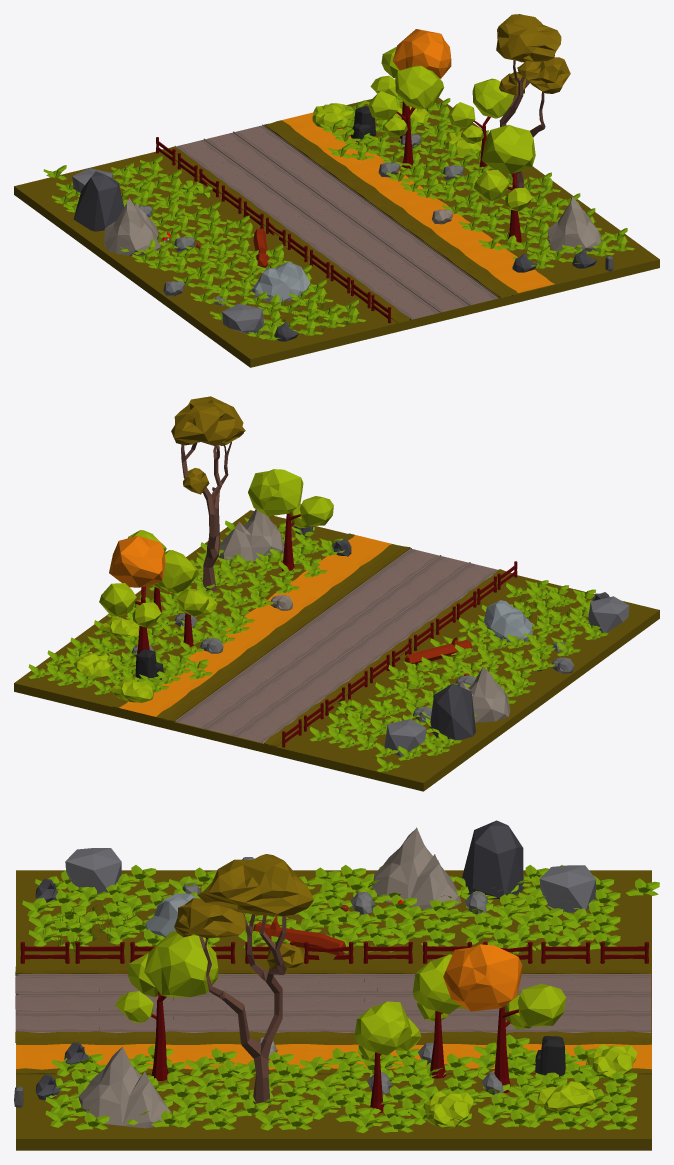
Rendered from Forest Area 2.fbx.
3 renders of one model, top to bottom at view 1: azimuth 30°, elevation 25°; view 2: azimuth 150°, elevation 25°; view 3: azimuth 270°, elevation 25°, orthographic. The views are drawn at different scales.
Visible parts, largest first — view 1: SM_Env_Grass_01.009, Plane.002, SM_Env_Tree_02.004, Tree1.006, Tree1.005, Tree1.007, WoodFence1.004, Tree1.004, Rock_04.003, Rock10, Rock10.001, Cloud1 (+3 smaller); view 2: SM_Env_Grass_01.009, Plane.002, SM_Env_Tree_02.004, Tree1.007, Tree1.006, WoodFence1.004, Tree1.005, Rock10.001, Rock_04.003, Rock10, Cloud1, Rock_01.001 (+6 smaller); view 3: SM_Env_Grass_01.009, Plane.002, SM_Env_Tree_02.004, Tree1.007, Tree1.006, WoodFence1.004, Rock10.001, Rock10, Rock_04.003, Tree1.004, Tree1.005, Rock_01 (+7 smaller).
Part boxes in pixels (x1,y1,x2,y2): SM_Env_Grass_01.009: (162, 112, 560, 322); Plane.002: (14, 98, 659, 367); SM_Env_Tree_02.004: (496, 14, 570, 188); Tree1.006: (474, 125, 535, 242); Tree1.005: (368, 65, 444, 168); Tree1.007: (370, 29, 451, 142); WoodFence1.004: (156, 137, 391, 323); Tree1.004: (448, 78, 514, 170); Rock_04.003: (73, 171, 123, 231); Rock10: (104, 198, 160, 256); Rock10.001: (547, 196, 603, 254); Cloud1: (251, 261, 310, 302); SM_Env_Grass_01.009: (112, 533, 511, 746); Plane.002: (14, 510, 659, 791); SM_Env_Tree_02.004: (171, 396, 245, 591); Tree1.007: (99, 535, 165, 654); Tree1.006: (248, 469, 333, 571); WoodFence1.004: (282, 561, 517, 747); Tree1.005: (156, 550, 217, 647); Rock10.001: (218, 509, 284, 562); Rock_04.003: (429, 683, 475, 740); Rock10: (459, 667, 509, 722); Cloud1: (483, 600, 533, 642); Rock_01.001: (588, 596, 629, 632); SM_Env_Grass_01.009: (15, 966, 651, 1074); Plane.002: (16, 870, 651, 1150); SM_Env_Tree_02.004: (174, 854, 313, 1108); Tree1.007: (443, 944, 566, 1092); Tree1.006: (115, 931, 218, 1080); WoodFence1.004: (20, 941, 648, 963); Rock10.001: (78, 1047, 171, 1128); Rock10: (372, 827, 461, 909); Rock_04.003: (462, 820, 523, 899); Tree1.004: (354, 1001, 421, 1113); Tree1.005: (412, 954, 465, 1078); Rock_01: (539, 865, 595, 912).
Size of what is drawn, in the model's own units: 10009 by 4487 by 10159.
